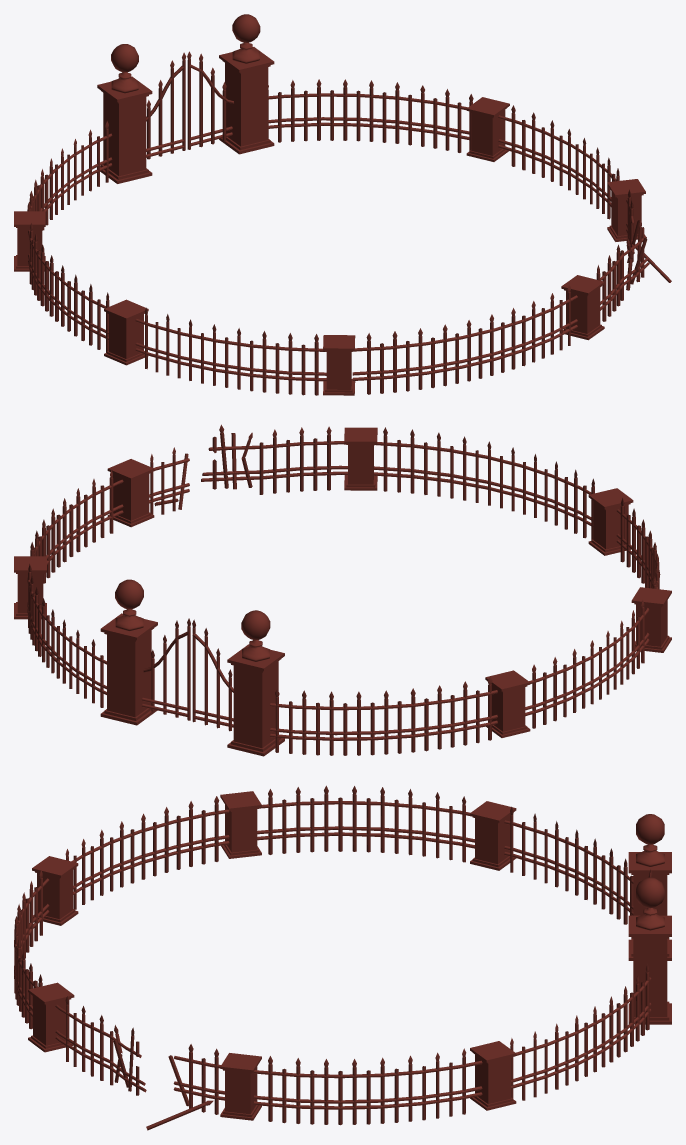
Rendered from RejasCementerio.fbx.
3 renders of one model, top to bottom at view 1: azimuth 30°, elevation 25°; view 2: azimuth 150°, elevation 25°; view 3: azimuth 270°, elevation 25°, orthographic. The views are drawn at different scales.
Parts seen in each view (by area): view 1: polySurface267, polySurface217, polySurface357; view 2: polySurface267, polySurface217, polySurface357; view 3: polySurface267.
Boxes of the visible parts, x1,y1,x2,y2 form: polySurface267: [14, 14, 671, 395]; polySurface217: [187, 51, 234, 149]; polySurface357: [146, 52, 186, 159]; polySurface267: [14, 424, 671, 756]; polySurface217: [142, 618, 190, 720]; polySurface357: [192, 619, 233, 731]; polySurface267: [14, 785, 671, 1130].
Size of the model in its own units: 11.44 by 2.91 by 11.39.
